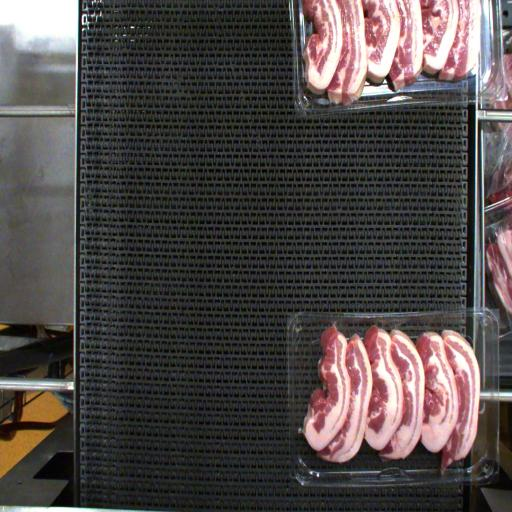packaging-error: (329, 318, 339, 328)
